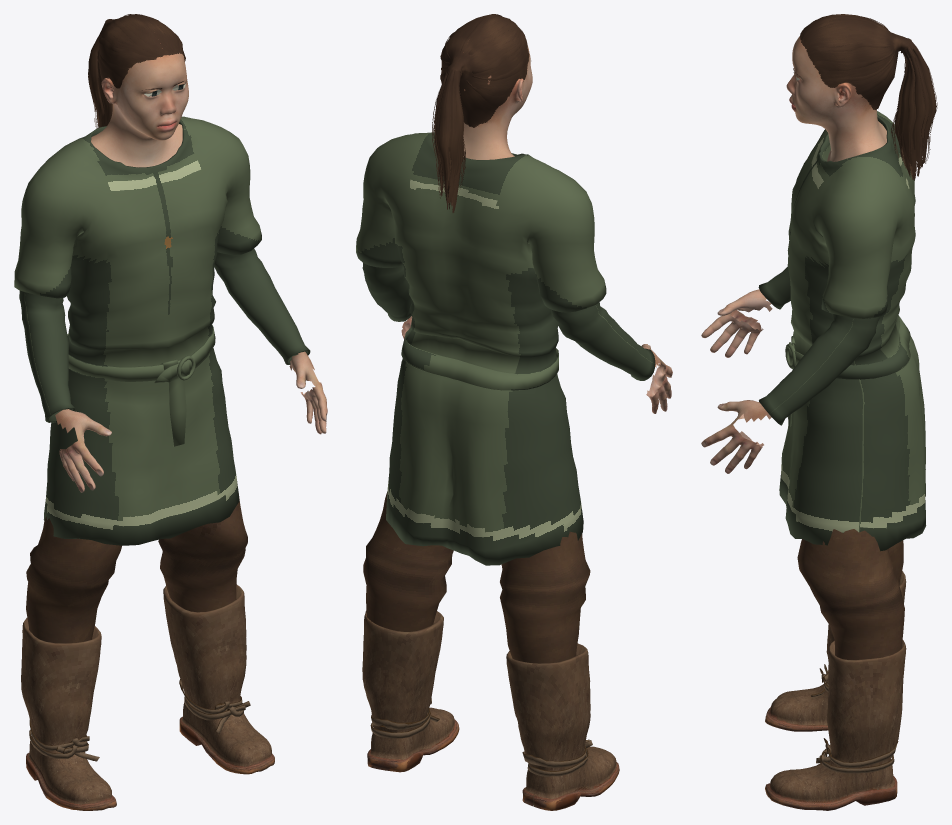
File: orin-travel-coat.glb
The picture shows the model from 3 angles, left to right: view 1: azimuth 30°, elevation 25°; view 2: azimuth 150°, elevation 25°; view 3: azimuth 270°, elevation 25°; orthographic projection.
Parts seen in each view (by area): view 1: orin-travel-coat runtime mesh; view 2: orin-travel-coat runtime mesh; view 3: orin-travel-coat runtime mesh.
Part boxes in pixels (x1=…): orin-travel-coat runtime mesh: x1=14, y1=14, x2=327, y2=810; orin-travel-coat runtime mesh: x1=356, y1=14, x2=672, y2=810; orin-travel-coat runtime mesh: x1=701, y1=14, x2=937, y2=810.
Size of the model in its own units: 0.6816 by 1.85 by 0.5325.
8 materials, 7 textured.
